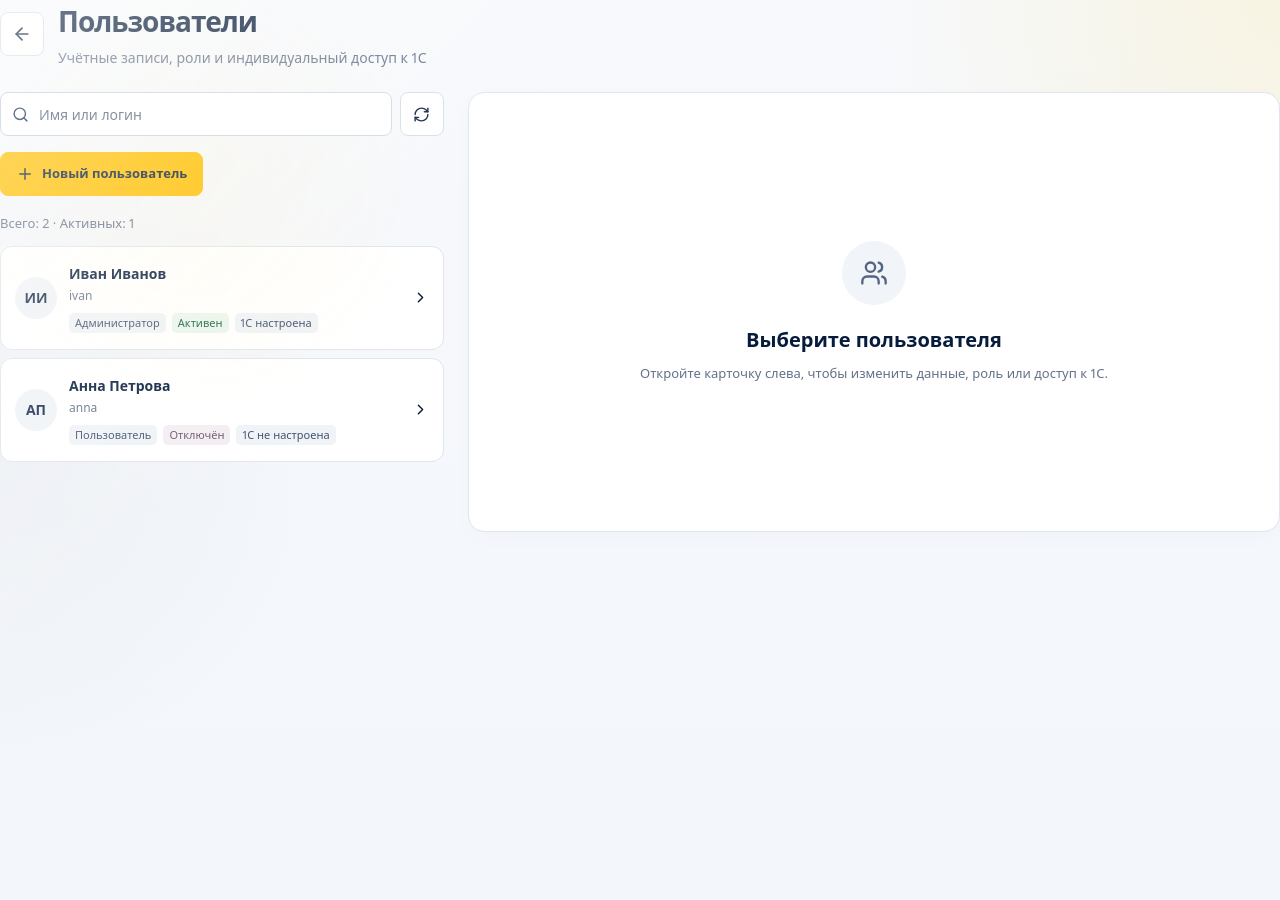
Test: Users settings › protects dirty edits during selection with an explicit discard choice
Click the button "ИИ Иван Иванов ivan Администратор Активен 1С настроена" at coordinates (36, 298), box [0,246,444,350]
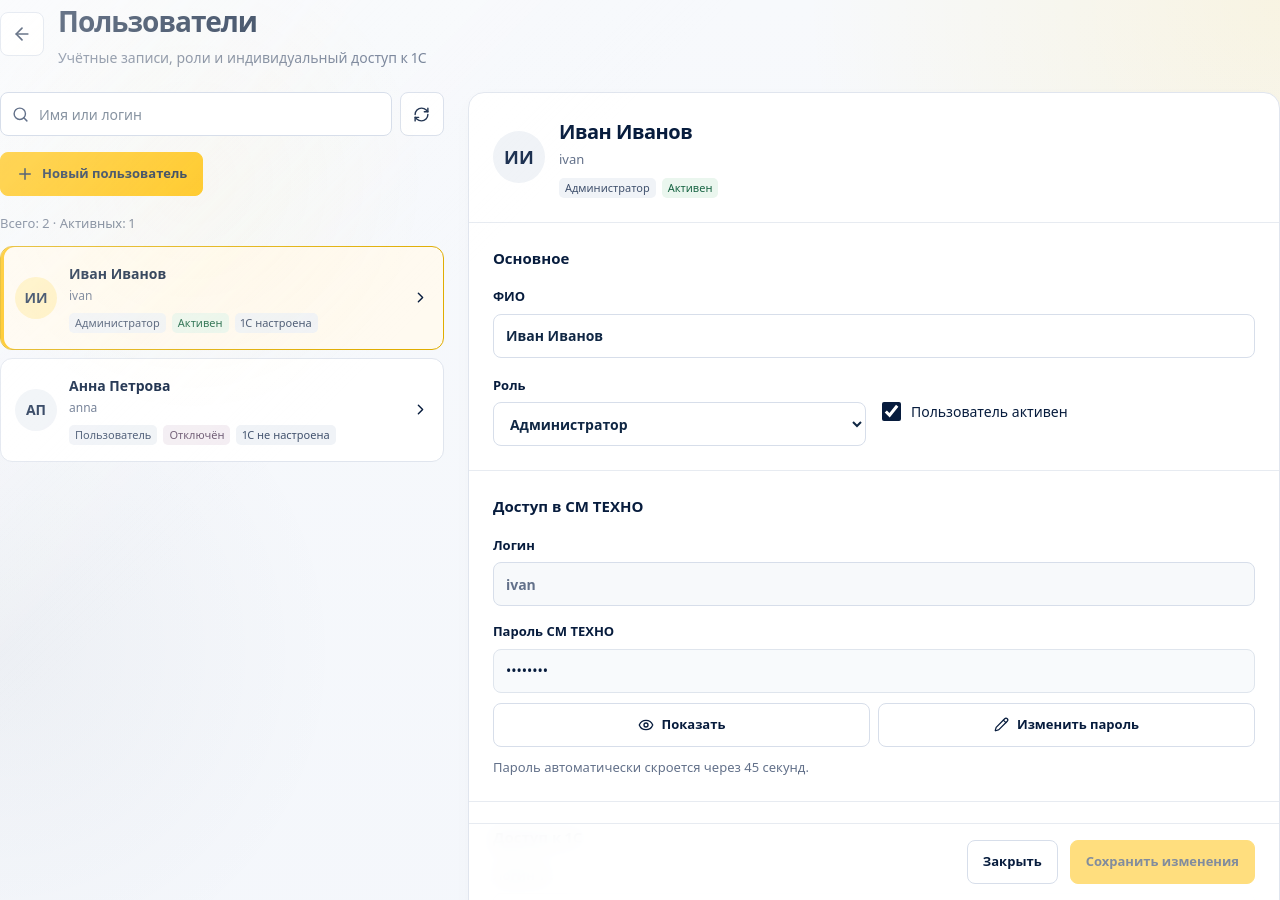
Replace the text in the field labelled "ФИО" with "Не сохранено" at coordinates (874, 336), box [493,314,1255,358]
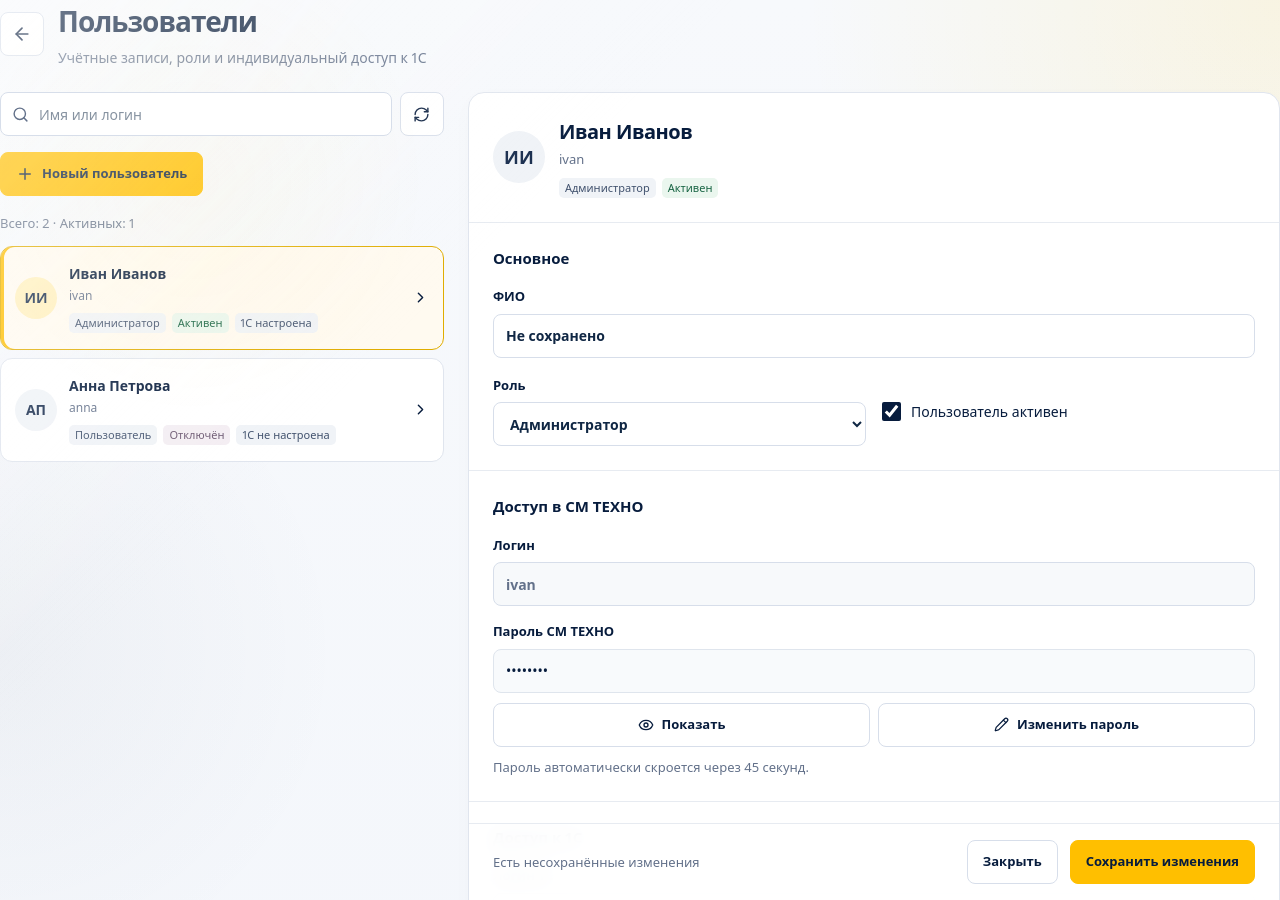
Click the button "АП Анна Петрова anna Пользователь Отключён 1С не настроена" at coordinates (36, 410), box [0,358,444,462]
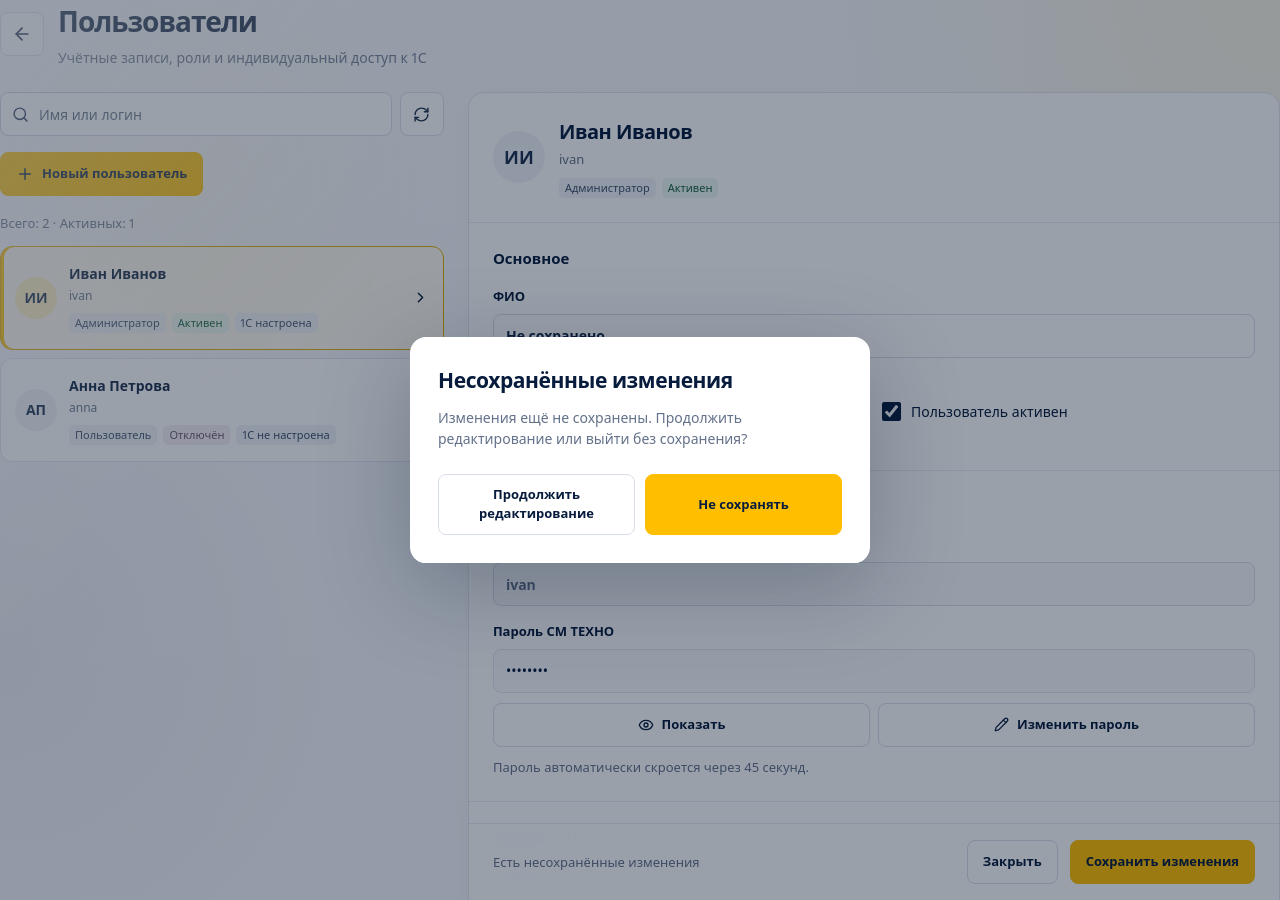
Click the button "Продолжить редактирование" at coordinates (536, 504), box [438,474,635,535]
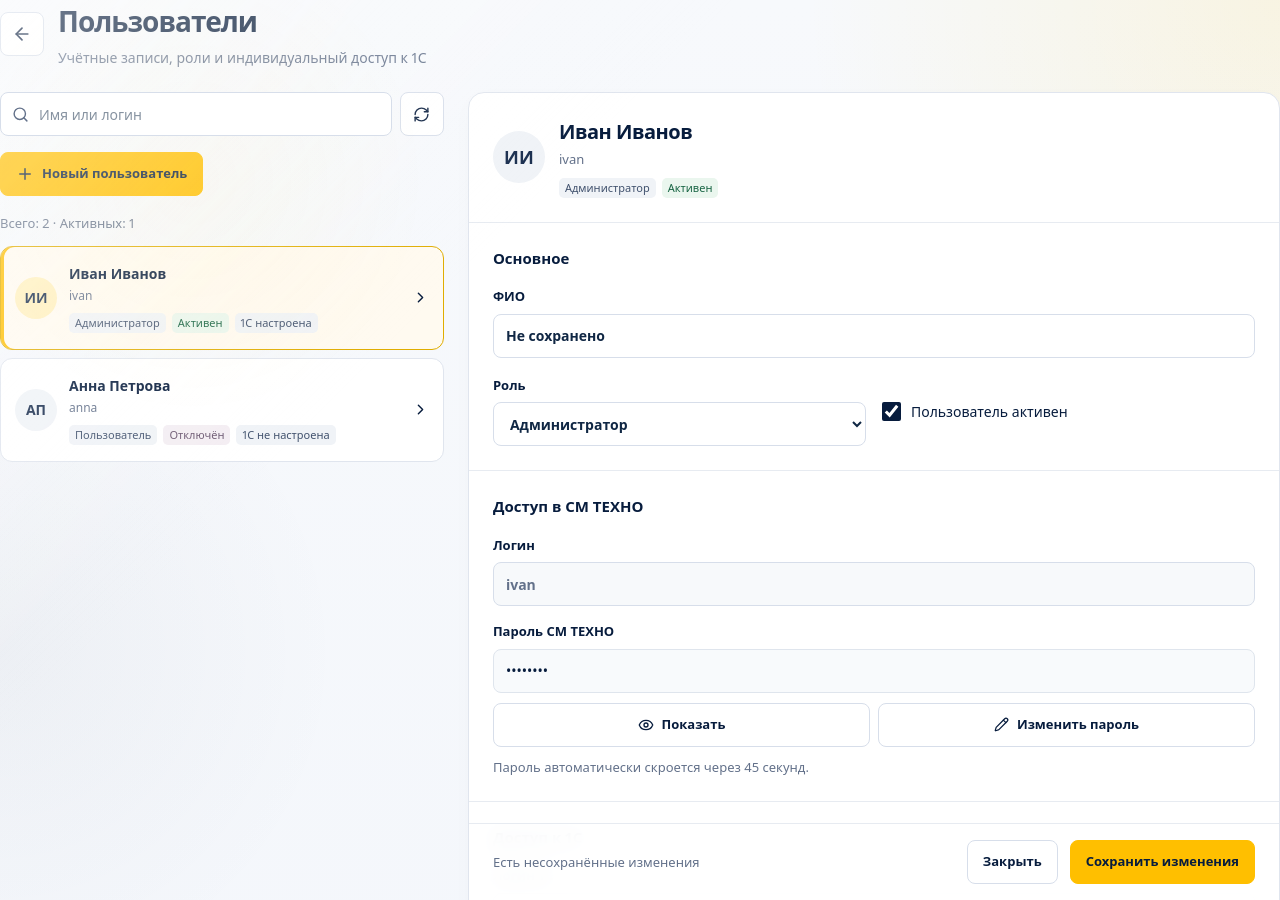
Click the button "АП Анна Петрова anna Пользователь Отключён 1С не настроена" at coordinates (36, 410), box [0,358,444,462]
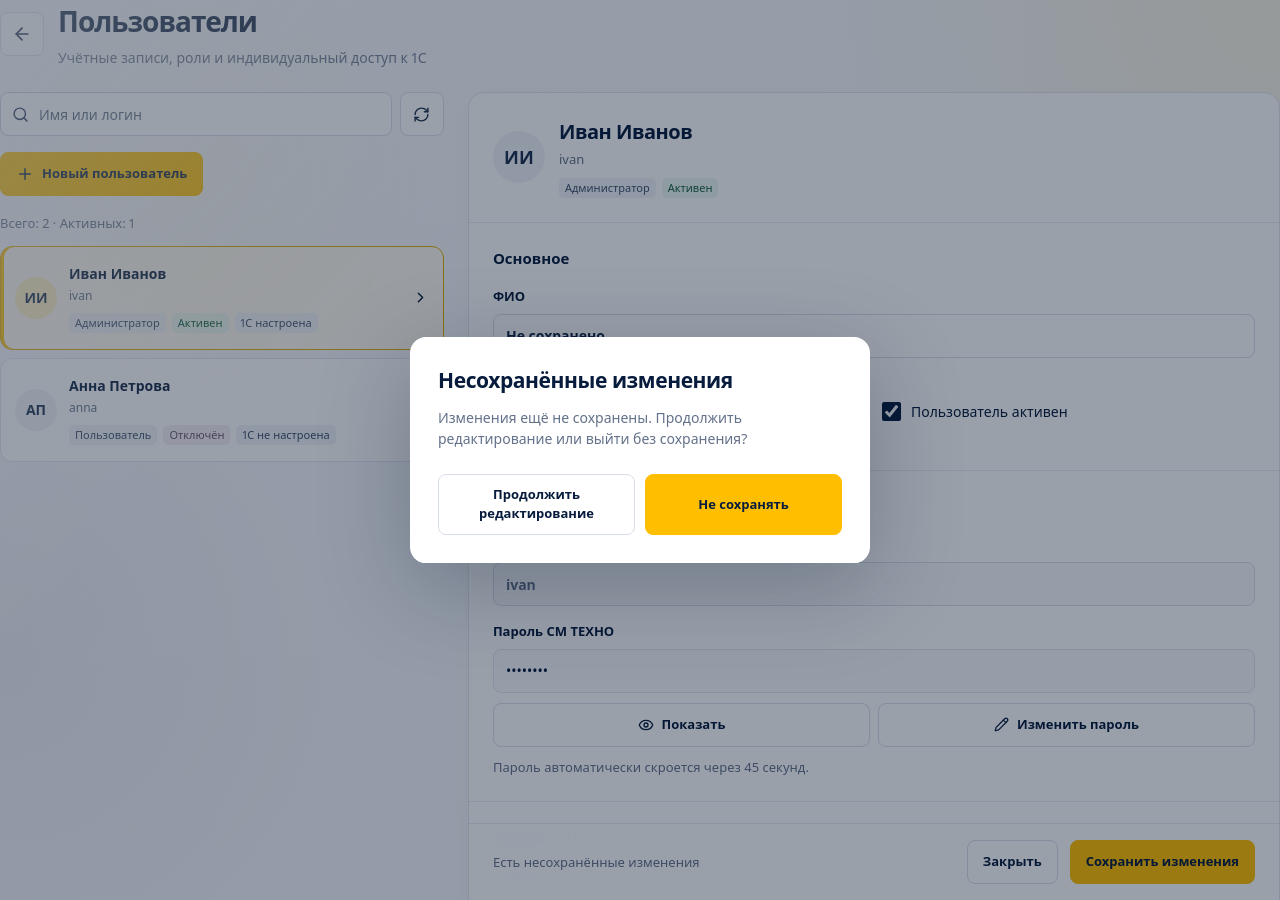
Click the button "Не сохранять" at coordinates (744, 504), box [645,474,842,535]
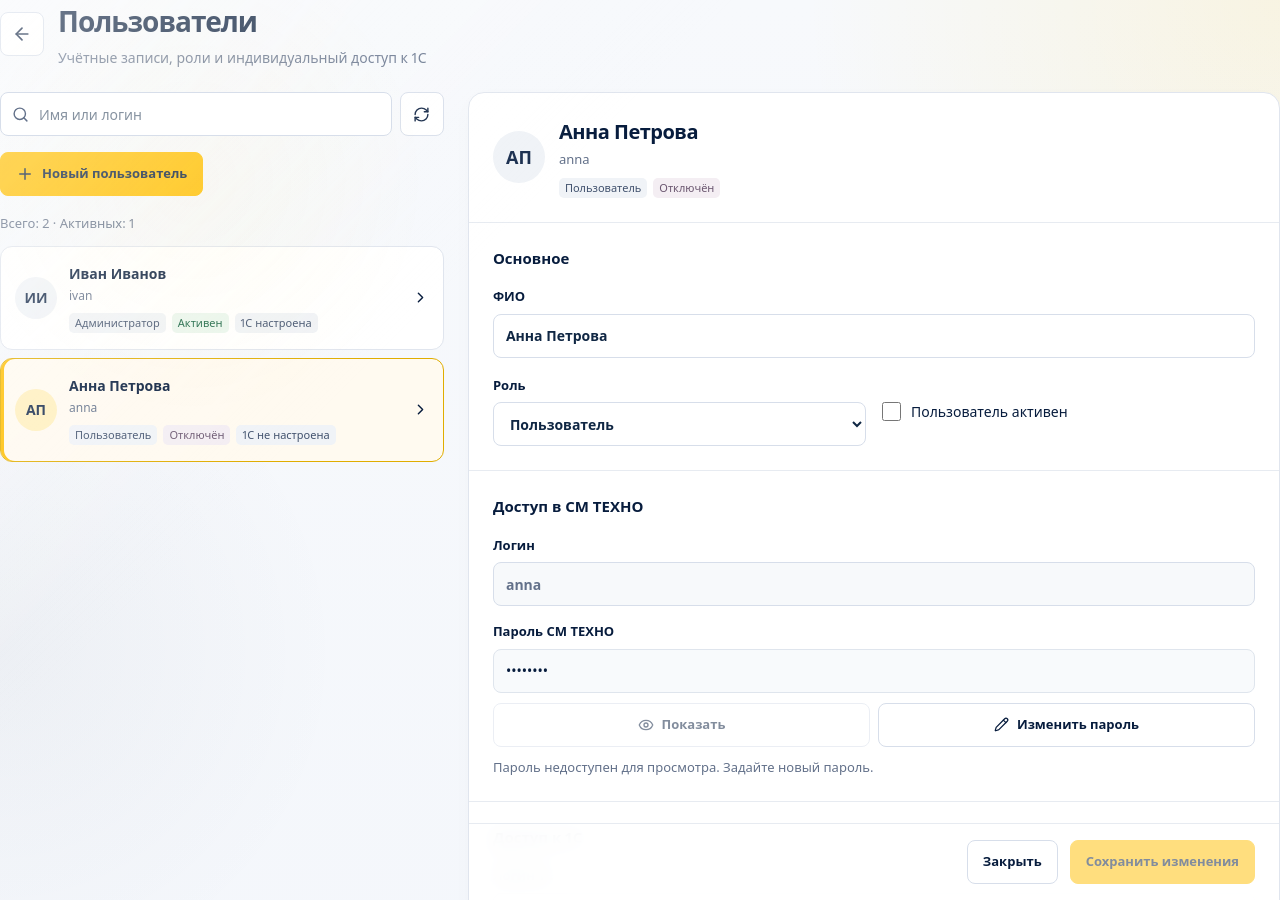
Result: the field labelled "ФИО" holds "Анна Петрова" at [493,314,1255,358]
